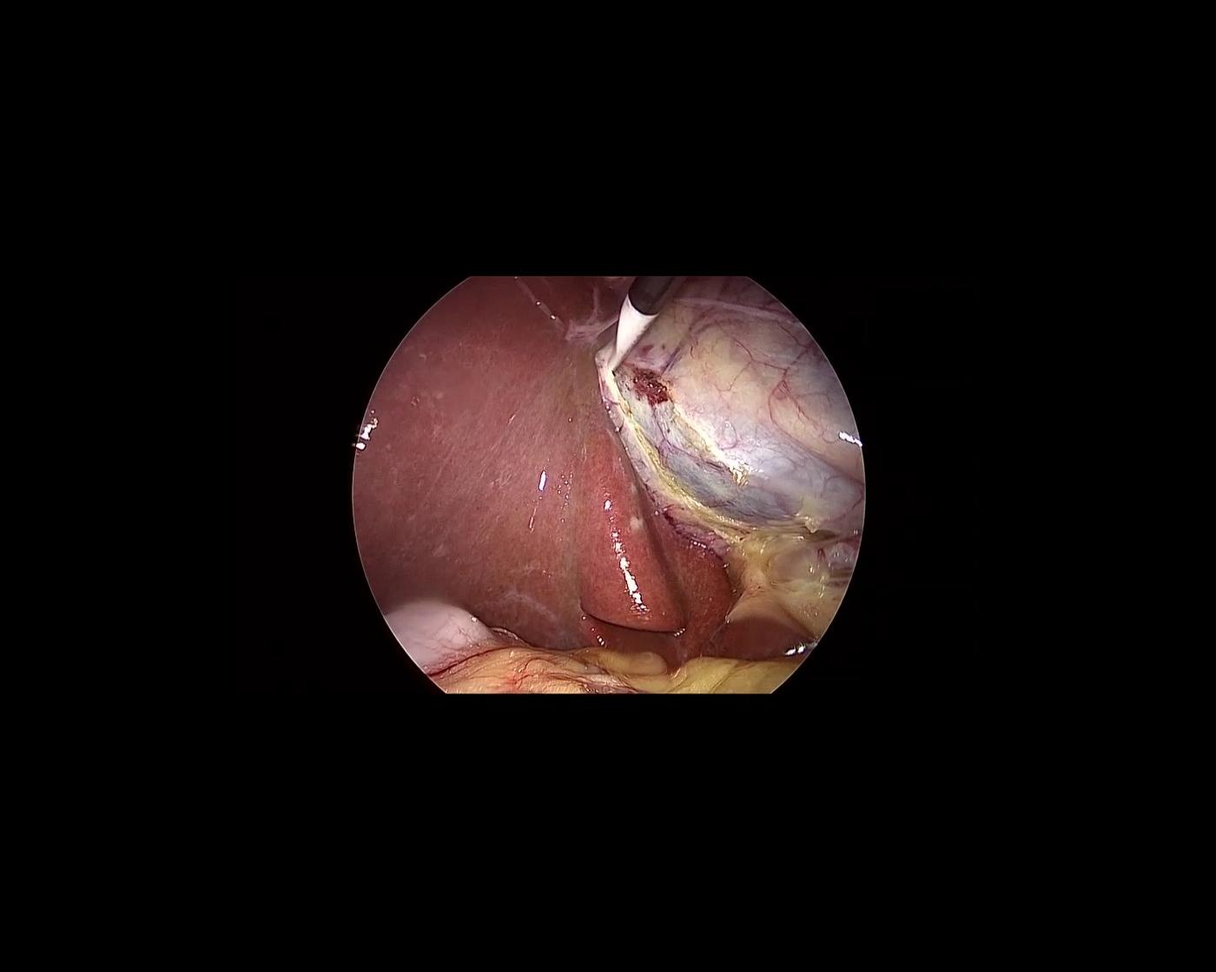Cautery: (581, 254, 687, 377)
Gallbladder: (601, 281, 861, 531)
Liver: (353, 277, 808, 660)
